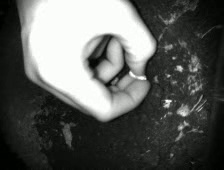corn: (135, 73, 148, 83), (128, 67, 137, 80)
